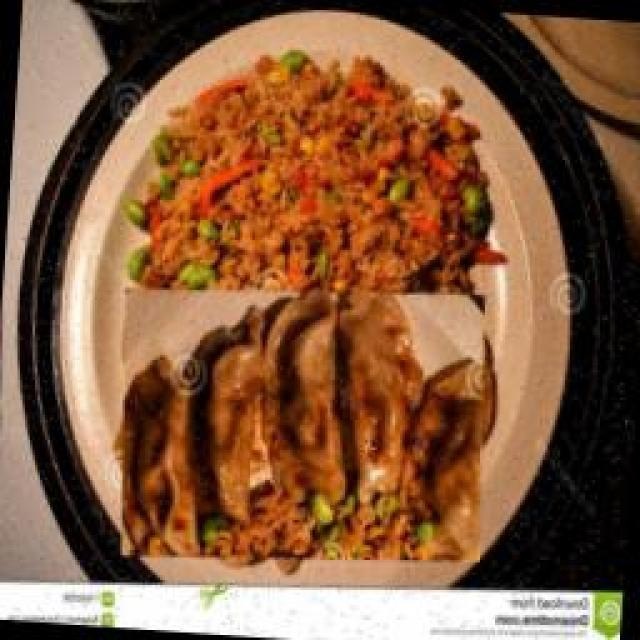fried_dumplings: (108, 268, 501, 581)
